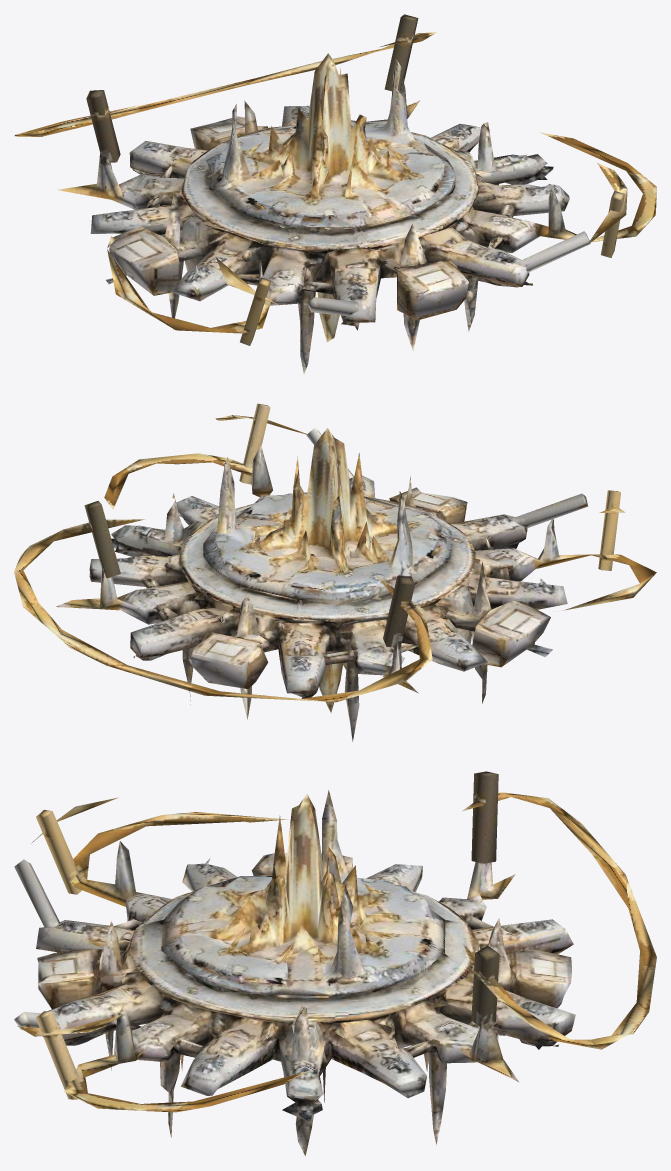
Rendered from st3d_radiant_dawnchoir_lod2.glb.
The picture shows the model from 3 angles, top to bottom: view 1: azimuth 30°, elevation 25°; view 2: azimuth 150°, elevation 25°; view 3: azimuth 270°, elevation 25°; orthographic projection. The views are drawn at different scales.
Visible parts, largest first — view 1: HOMELANCER_Station3D_Radiant-DawnchoirShrine_v1; view 2: HOMELANCER_Station3D_Radiant-DawnchoirShrine_v1; view 3: HOMELANCER_Station3D_Radiant-DawnchoirShrine_v1.
Part boxes in pixels (x1,y1,x2,y2): HOMELANCER_Station3D_Radiant-DawnchoirShrine_v1: (14, 14, 656, 373); HOMELANCER_Station3D_Radiant-DawnchoirShrine_v1: (14, 403, 656, 741); HOMELANCER_Station3D_Radiant-DawnchoirShrine_v1: (14, 771, 656, 1155).
Size of the model in its own units: 0.9799 by 0.5184 by 0.9006.
Materials: 1 (1 with a texture image).
